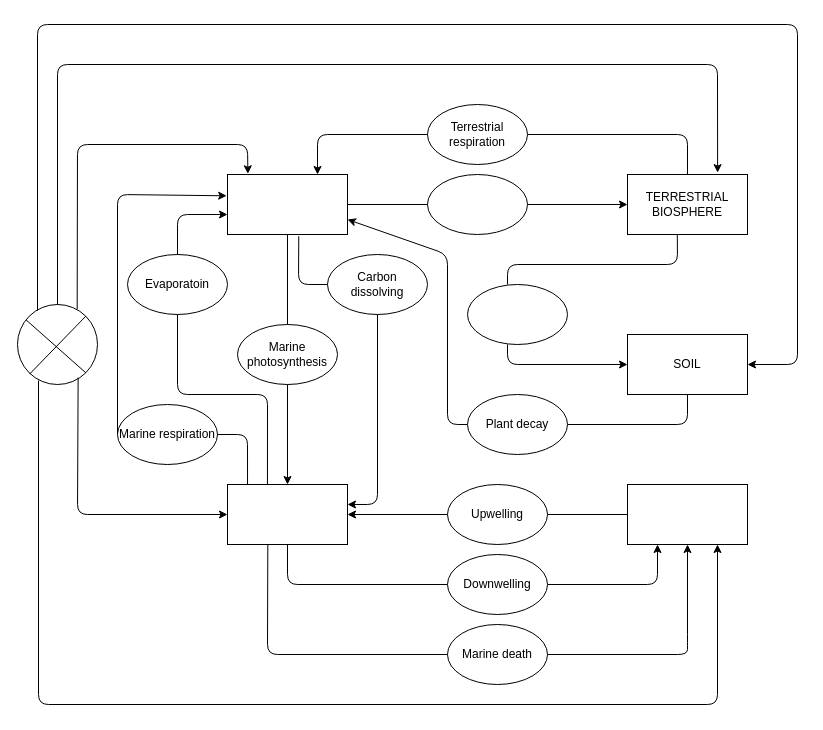
This 823x730 diagram has some shape labels left out. Each missing label, with the centre of its shape:
ATMOSPHERE: the point at 287,204
DEEP OCEAN: the point at 687,514
OCEAN SURFACE: the point at 287,514
Plant death: the point at 517,314
Terrestrial photosynthesis: the point at 477,204
